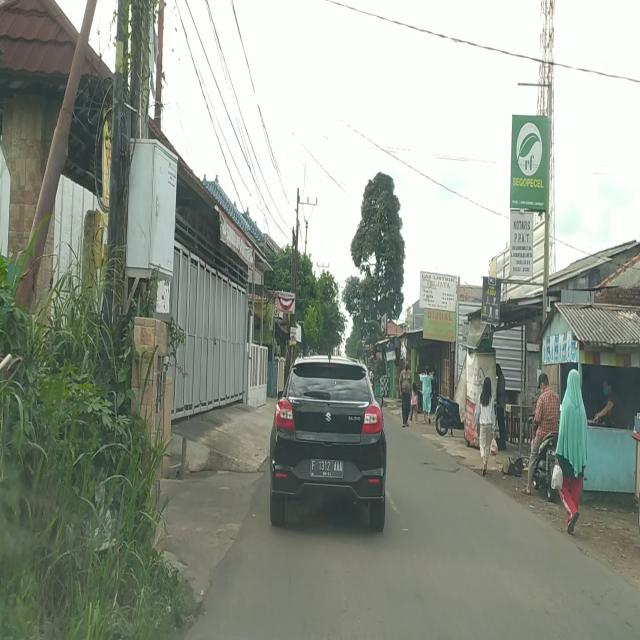Sewer Cover: (433, 468, 462, 474), (421, 460, 444, 466)
